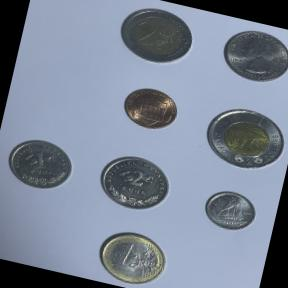1 Euro: (87, 221, 176, 288)
2 Euro: (108, 0, 203, 76)
Canda-10cent-: (196, 182, 263, 240)
Canda-2Dollar-: (195, 96, 288, 183)
Croatia-2Kune-: (90, 145, 180, 220)
US-1cent-: (116, 80, 185, 136)
US-25cent-: (212, 20, 288, 95)
